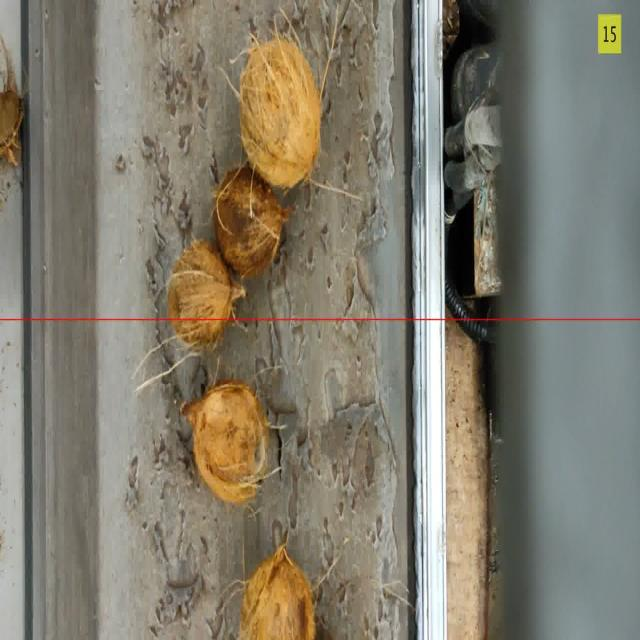Coconut-Conveyor-Belt: (241, 35, 321, 187), (181, 381, 269, 503), (214, 165, 288, 277), (168, 241, 244, 348), (240, 544, 315, 639), (0, 37, 23, 165)
